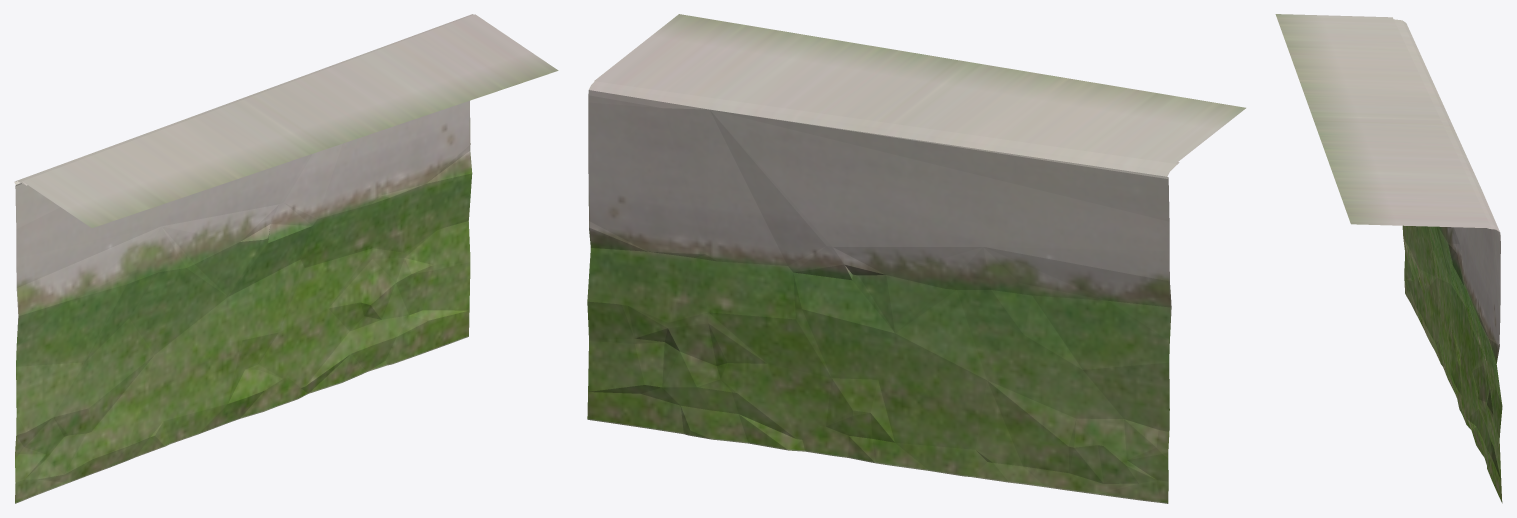
File: map_270_50.obj
3 views of the same model, side by side, from view 1: azimuth 30°, elevation 25°; view 2: azimuth 150°, elevation 25°; view 3: azimuth 270°, elevation 25° (orthographic). The views are drawn at different scales.
Visible parts, largest first — view 1: grp1; view 2: grp1; view 3: grp1.
Boxes of the visible parts, x1,y1,x2,y2 form: grp1: (14,14,558,503); grp1: (587,14,1245,503); grp1: (1275,14,1502,503).
Bounding box in the file's own units: 10 × 6.2 × 4.56.
1 material, 1 textured.
